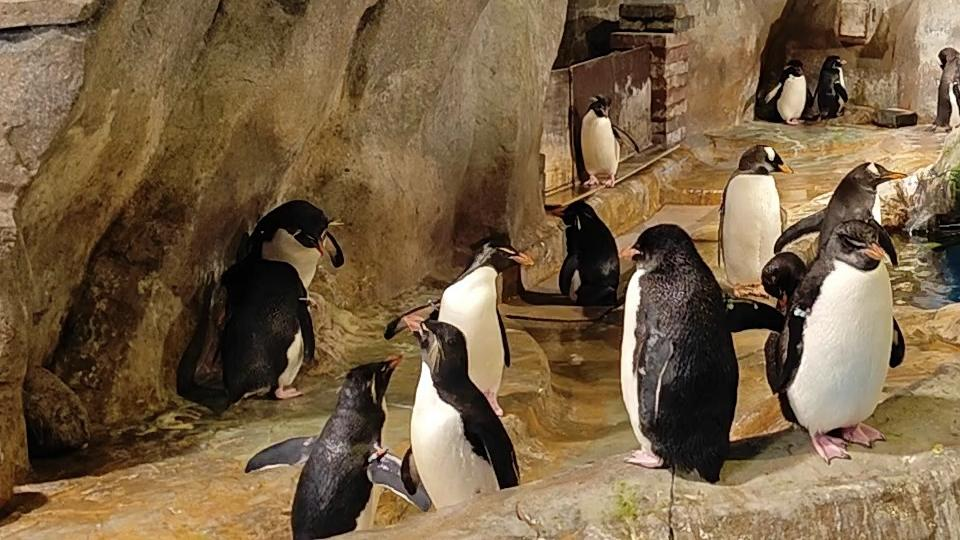Southern Rockhopper Penguin: (608, 220, 787, 487), (763, 217, 912, 468), (237, 345, 427, 540), (394, 310, 520, 517), (424, 230, 538, 422), (196, 253, 323, 412), (242, 199, 350, 293), (547, 197, 624, 312), (567, 89, 643, 187), (756, 53, 819, 127), (811, 49, 856, 121)
